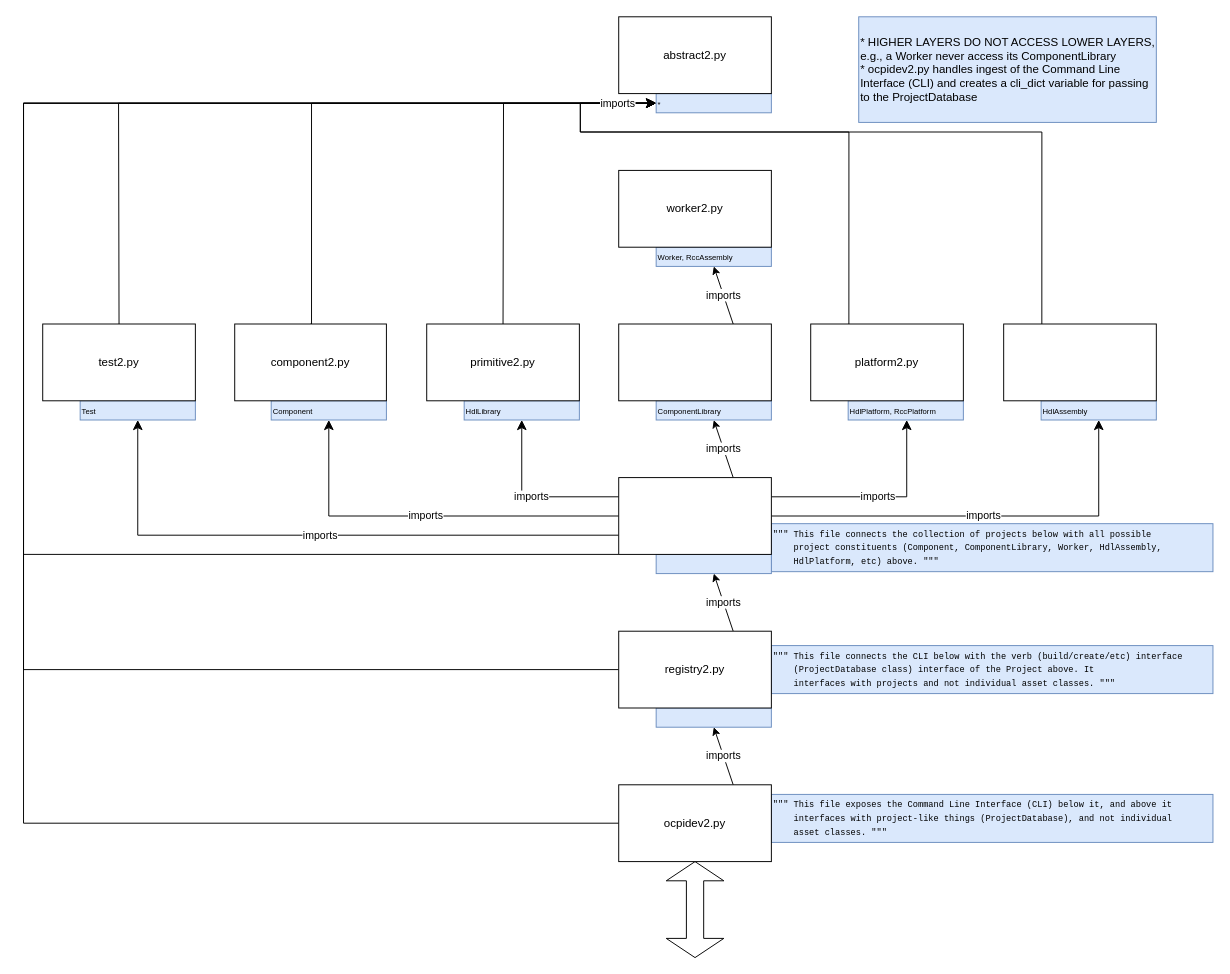
Some shapes in this 1230 by 974 pixel diagram are drawn without their labels. Each missing label, with the box of its shape:
assembly2.py: (1003, 323, 1156, 401)
CLI: (665, 861, 724, 958)
library2.py: (618, 323, 771, 401)
Project: (655, 553, 771, 574)
project2.py: (618, 477, 771, 554)
ProjectDatabase: (655, 707, 771, 727)
